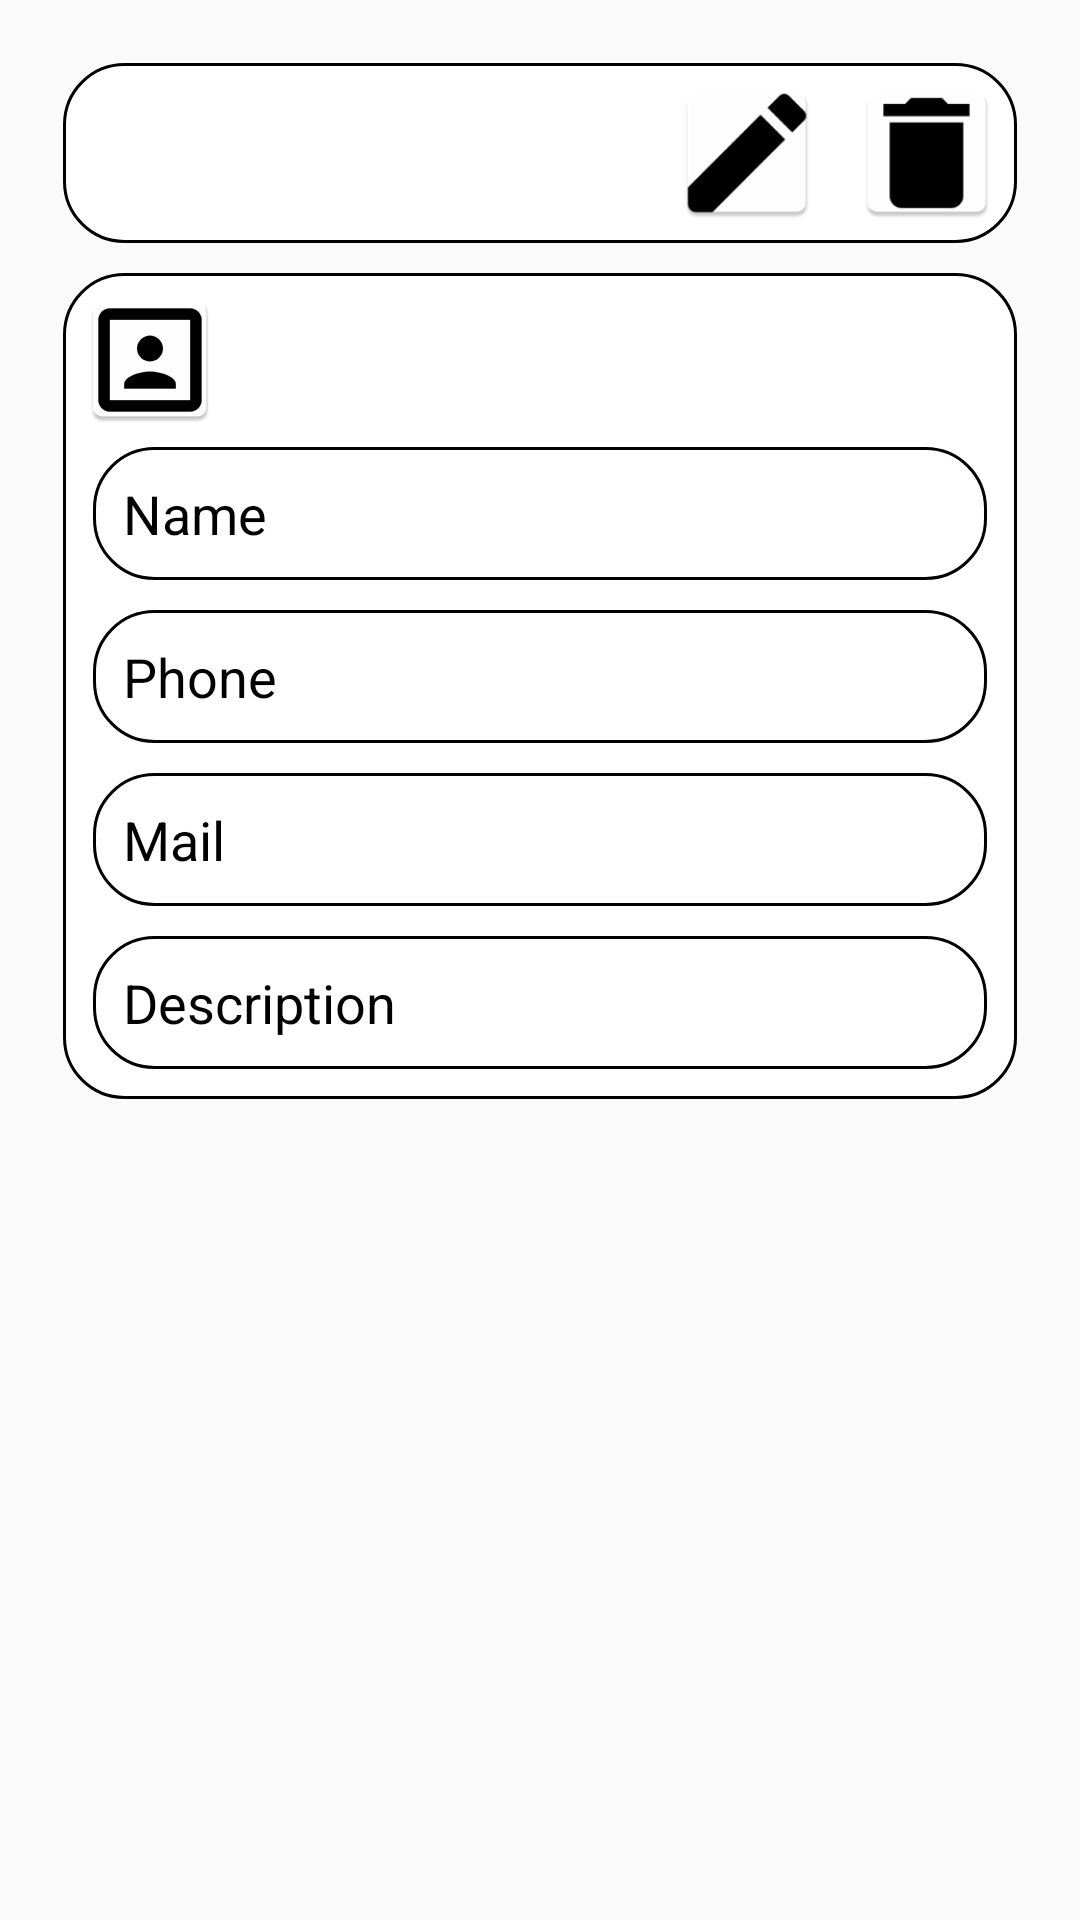

Screen size 1080px x 1920px. Icon name, then its center in pixels as [x,y]:
delete: [927,156]
profile: [150,364]
